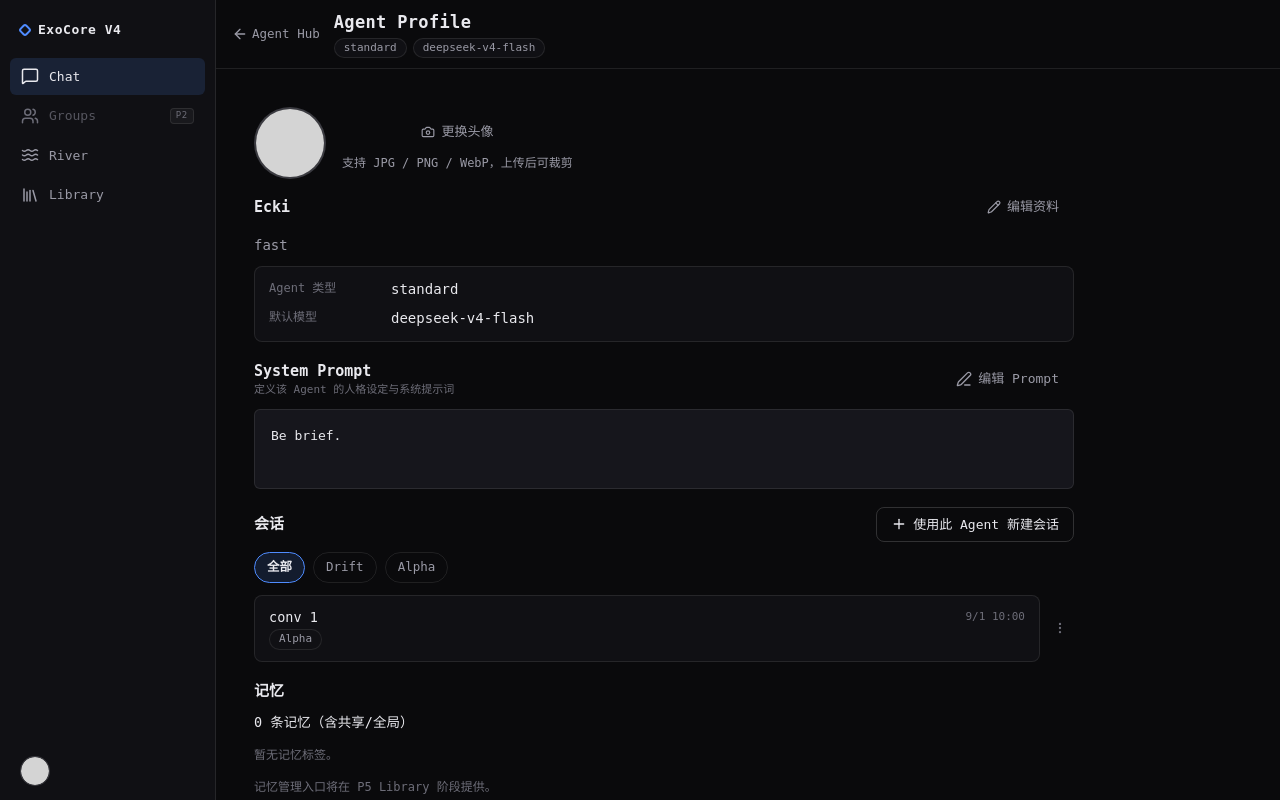
Test: conversation strict-parent back link (#72 U2) › returns to the Agent Profile by name when entered from it
Click the link "conv 1 9/1 10:00 Alpha". click: click(293, 617)
box: [254,595,1040,662]
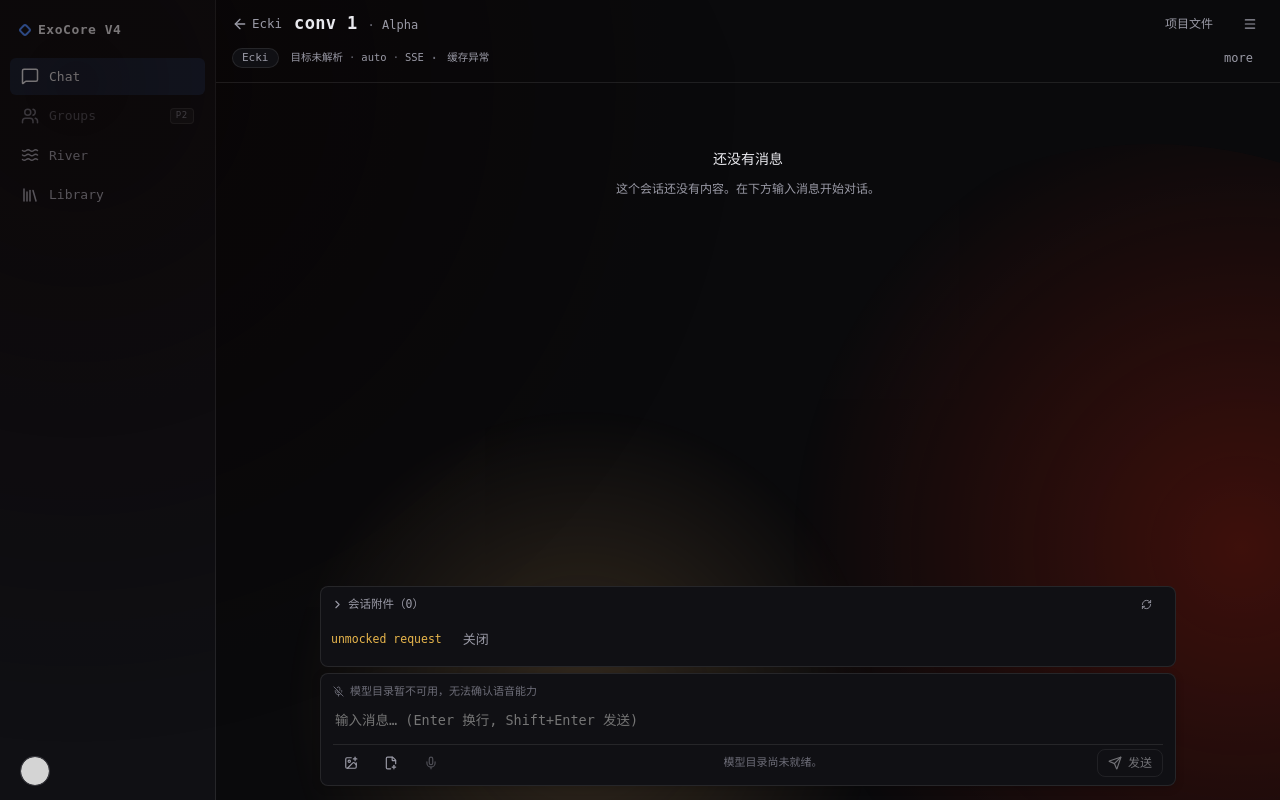
Result: the heading "conv 1" is shown at [294,11,358,37]
Result: the link with class "app-back-link" reads "Ecki" at [232,15,282,33]
